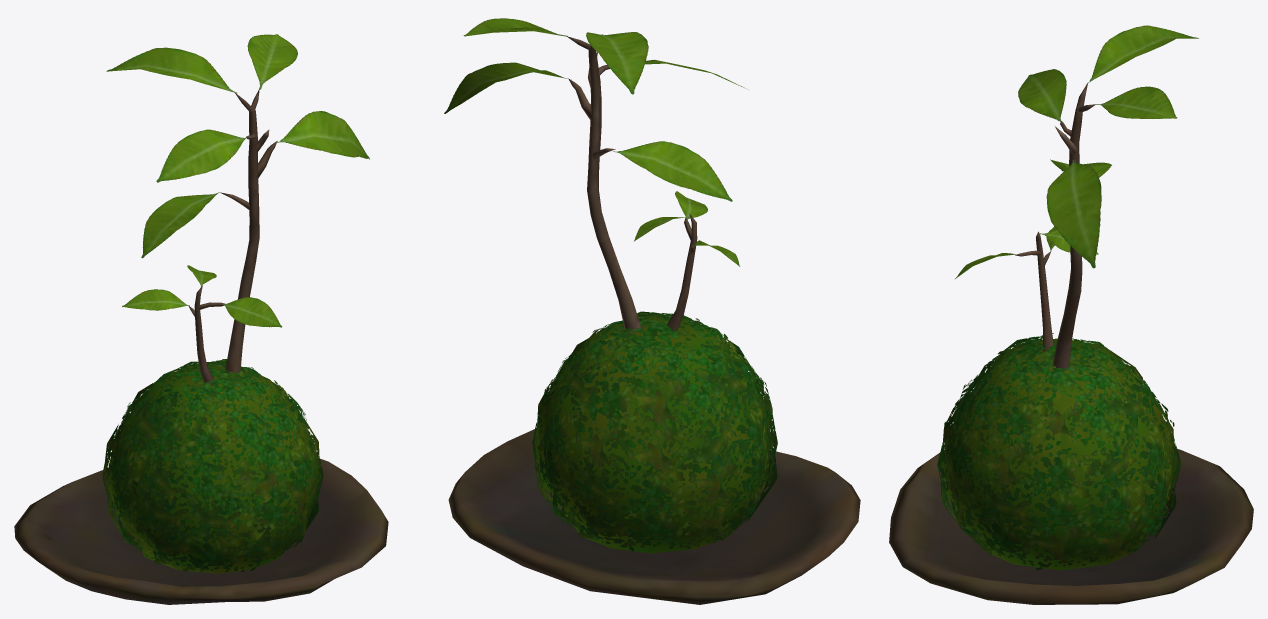
3 views of the same model, side by side, from view 1: azimuth 30°, elevation 25°; view 2: azimuth 150°, elevation 25°; view 3: azimuth 270°, elevation 25° (orthographic). The views are drawn at different scales.
Size of the model in its own units: 5.36 by 7.16 by 4.5.
2 materials, 2 textured.
